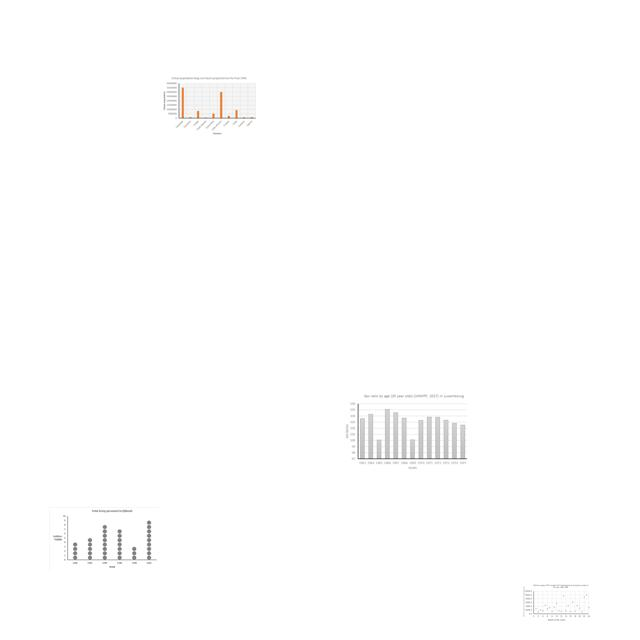Graph: (342, 393, 469, 471), (49, 507, 159, 571), (161, 75, 258, 136), (522, 582, 591, 622)
